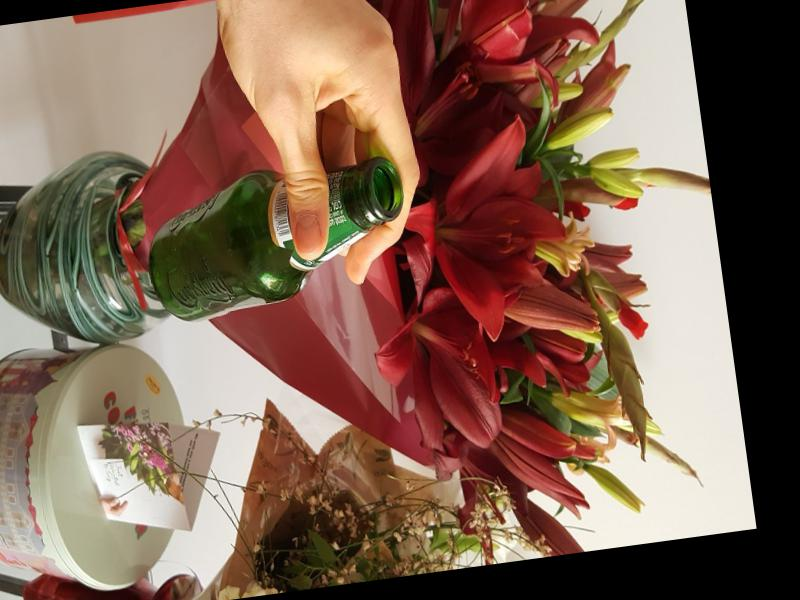Beer: (139, 152, 414, 327)
